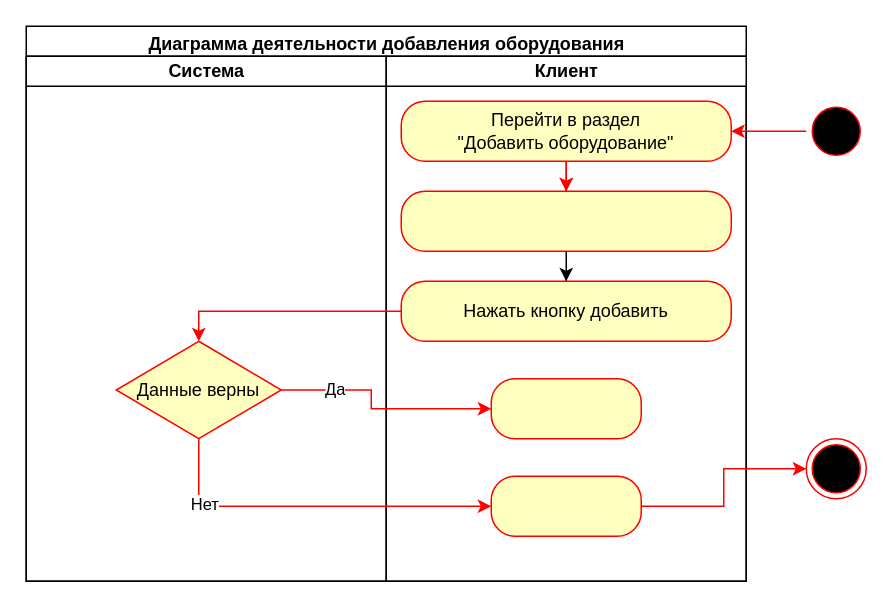
Image size: 893x608. Some labels were removed from this diagram. The centre of each missing label's shape, as x and y in pixels:
Ввести информацию об оборудовании: (565,220)
Вывести ошибку: (565,505)
Добавить в базу: (565,408)
